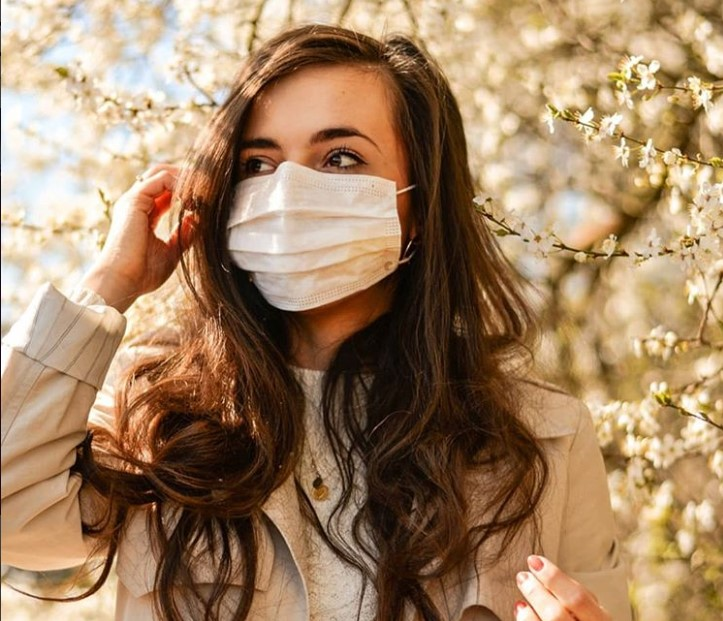face_with_mask: (220, 34, 435, 317)
